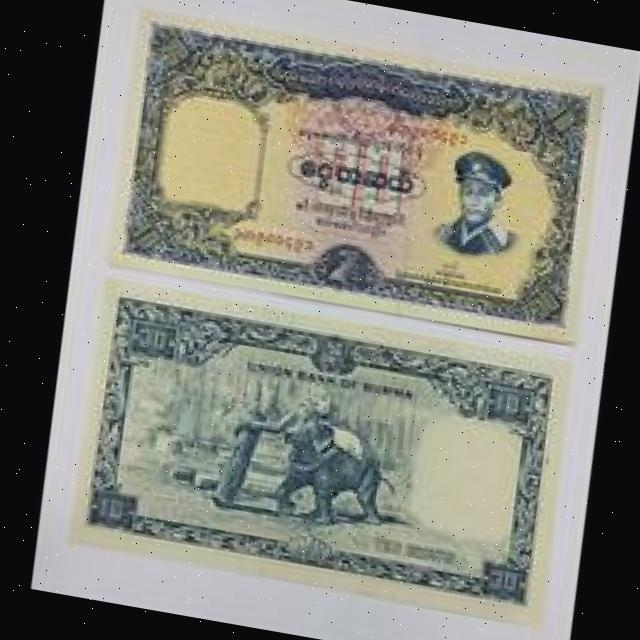banknote: (55, 280, 579, 616), (94, 8, 603, 343)
